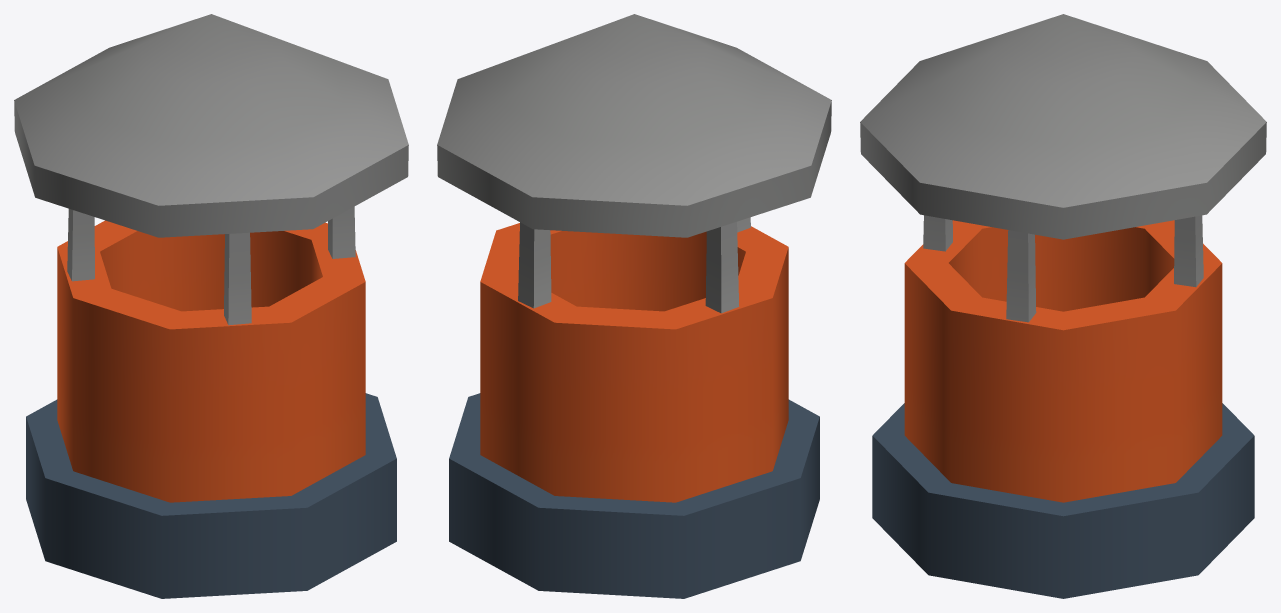
The model's file is Chimney_1_A_5.fbx.
The picture shows the model from 3 angles, left to right: view 1: azimuth 30°, elevation 25°; view 2: azimuth 150°, elevation 25°; view 3: azimuth 270°, elevation 25°; orthographic projection.
Visible parts, largest first — view 1: Chimney_1_A_5; view 2: Chimney_1_A_5; view 3: Chimney_1_A_5.
Boxes of the visible parts, left/top/right/bottom form: Chimney_1_A_5: left=14, top=14, right=408, bottom=598; Chimney_1_A_5: left=437, top=14, right=831, bottom=598; Chimney_1_A_5: left=860, top=14, right=1266, bottom=598.
Bounding box in the file's own units: 49.17 × 67.27 × 49.17.
